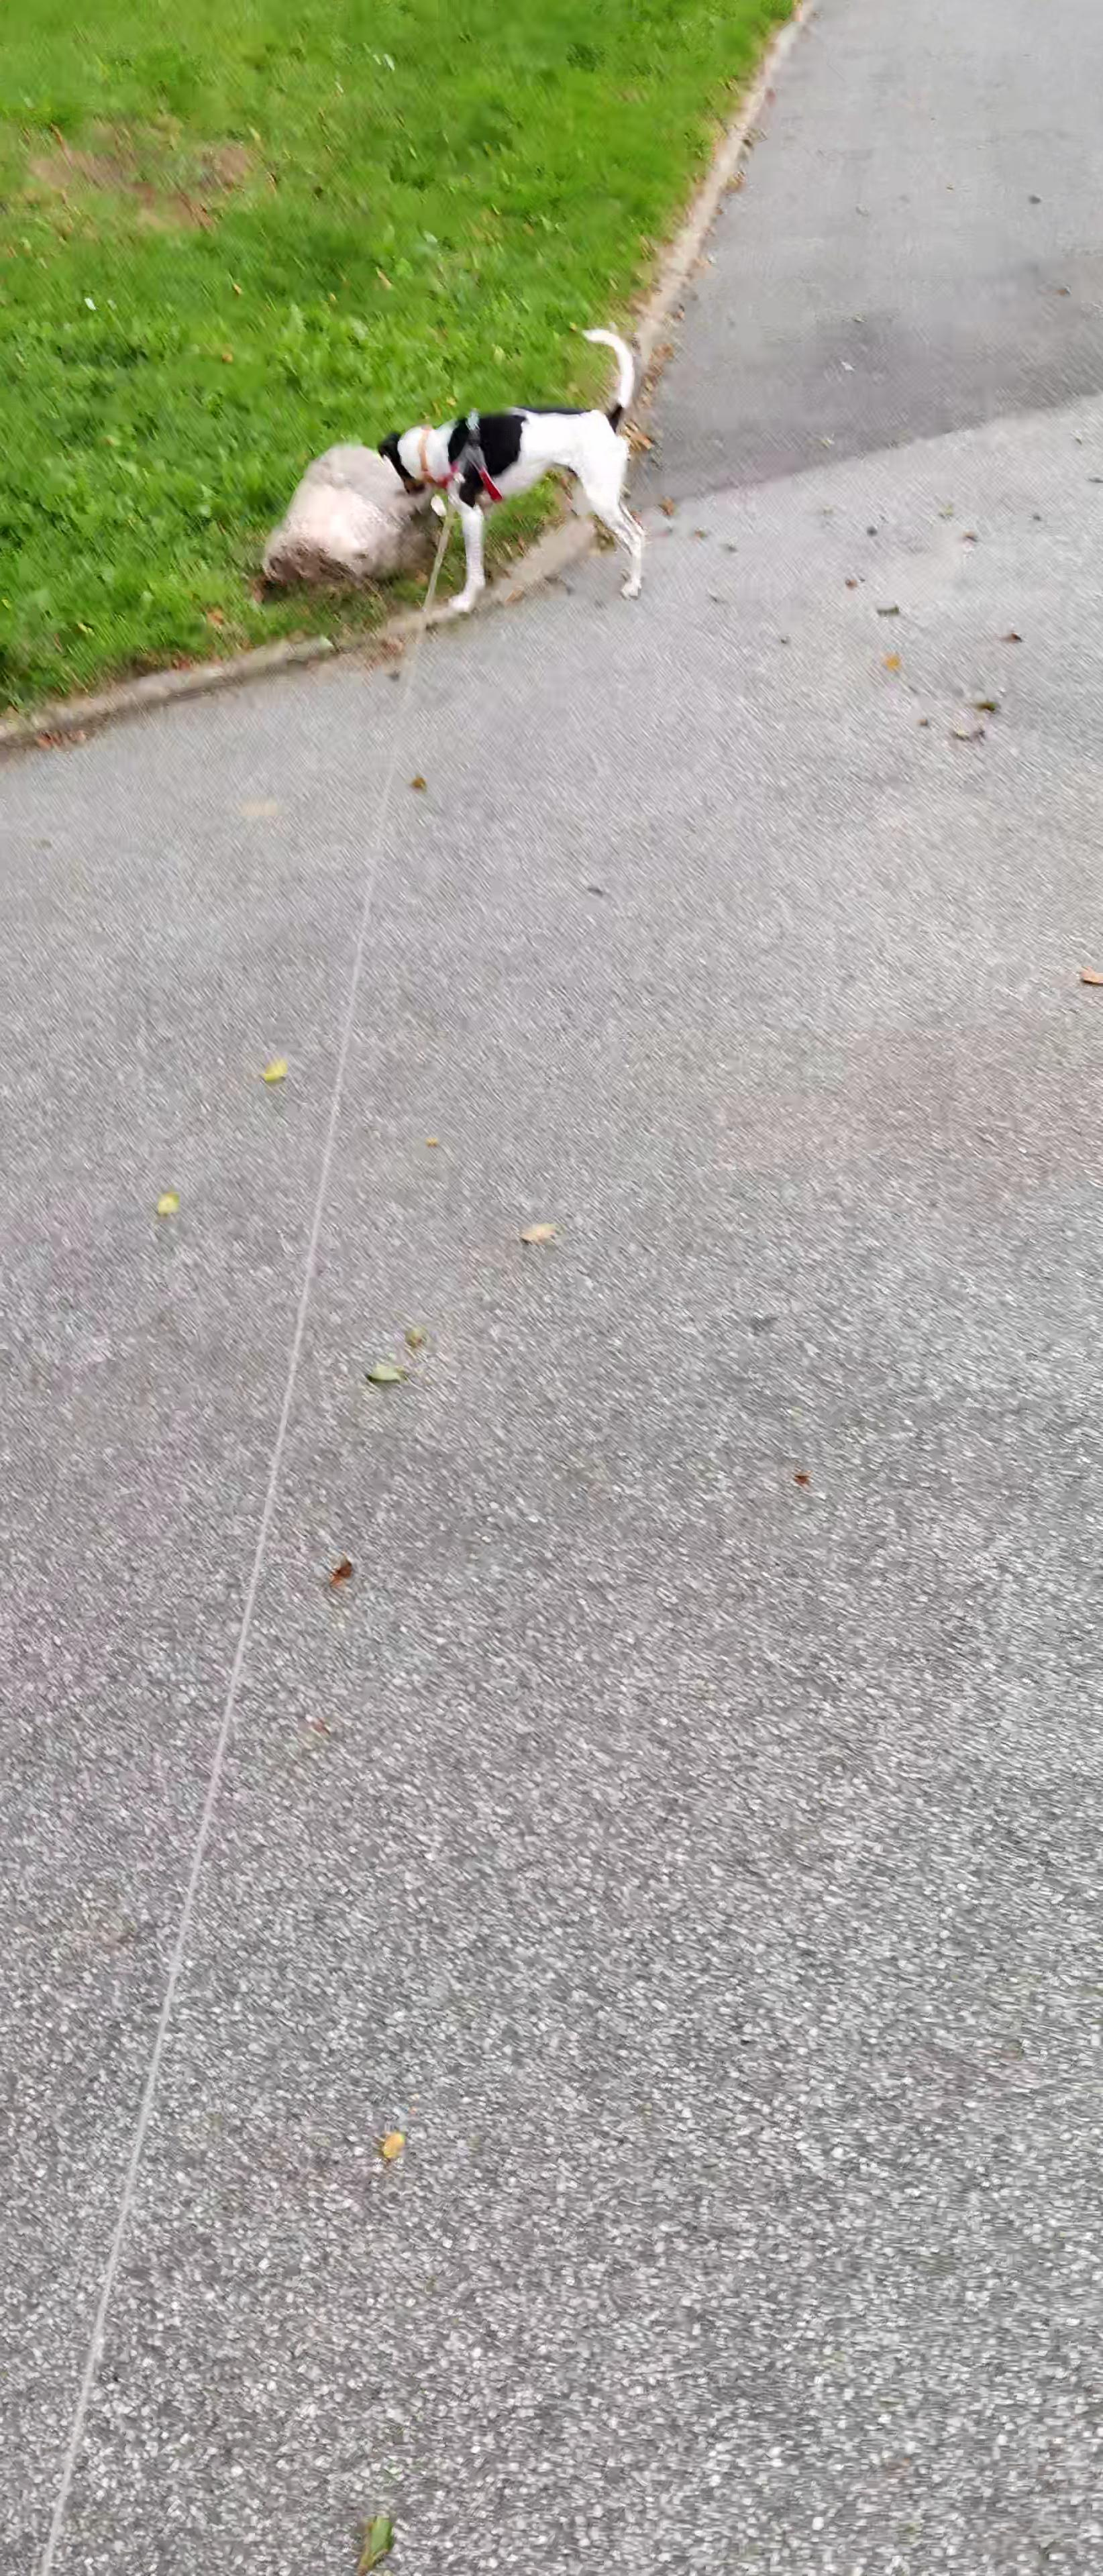Dog: (373, 324, 654, 621)
